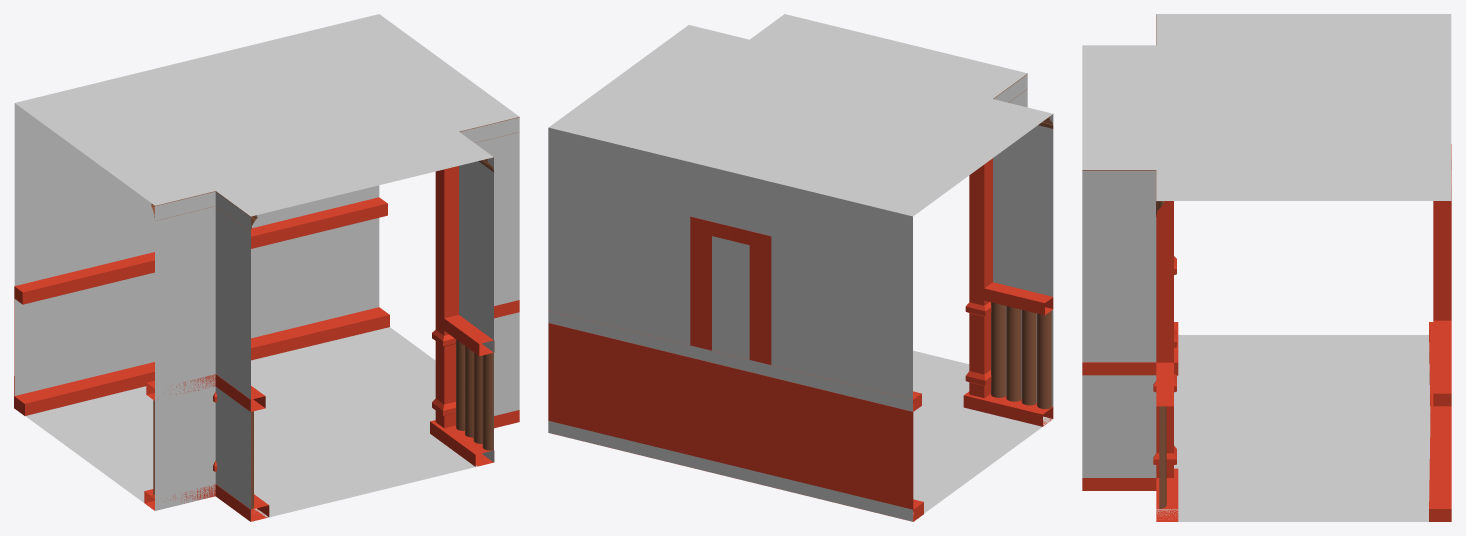
File: TJunction.fbx
3 views of the same model, side by side, from view 1: azimuth 30°, elevation 25°; view 2: azimuth 150°, elevation 25°; view 3: azimuth 270°, elevation 25° (orthographic). The views are drawn at different scales.
Parts seen in each view (by area): view 1: TJunction; view 2: TJunction; view 3: TJunction.
Part boxes in pixels (x1=…): TJunction: x1=14, y1=14, x2=519, y2=521; TJunction: x1=548, y1=14, x2=1053, y2=521; TJunction: x1=1082, y1=14, x2=1451, y2=521.
Bounding box in the file's own units: 3 × 2.4 × 2.5.
